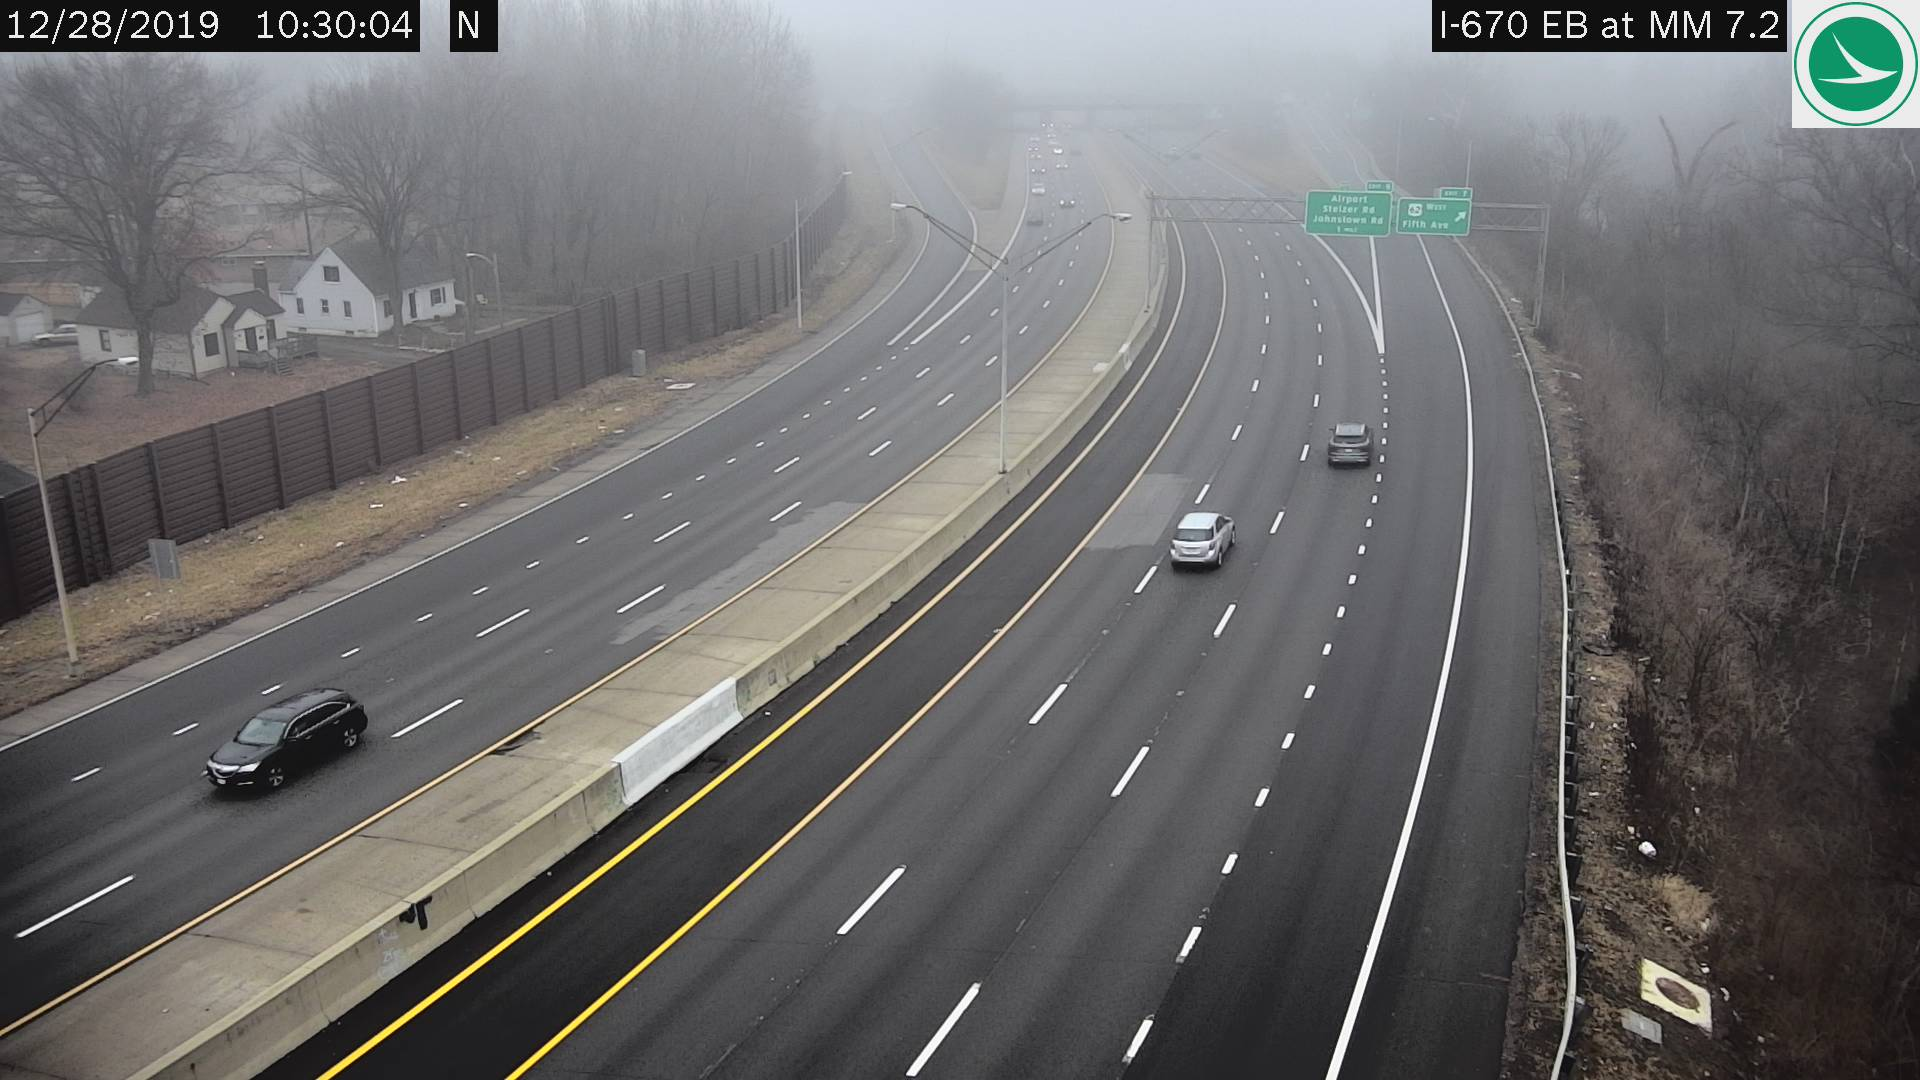car: (206, 692, 367, 793), (1170, 512, 1234, 564), (1327, 419, 1374, 468), (1026, 208, 1040, 224), (1029, 182, 1044, 194), (1059, 194, 1073, 206)
